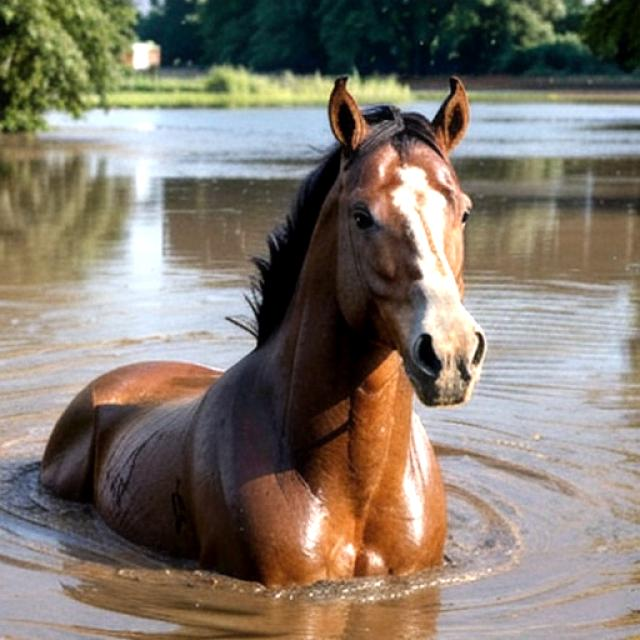horse: (14, 52, 508, 614)
